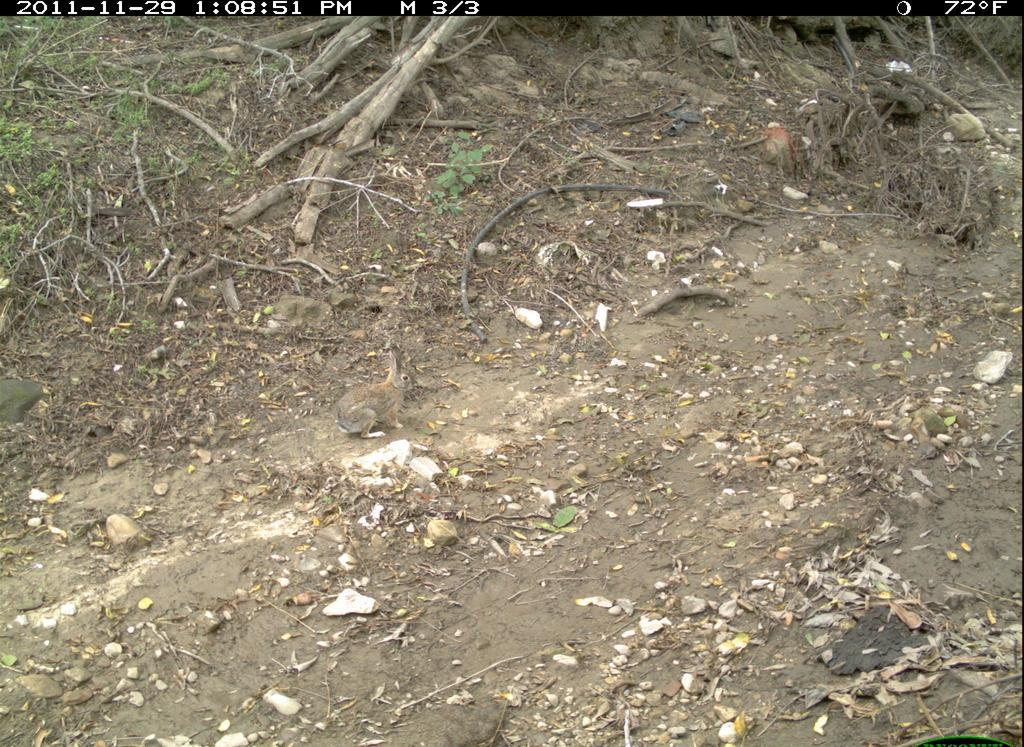rabbit: (335, 346, 419, 445)
